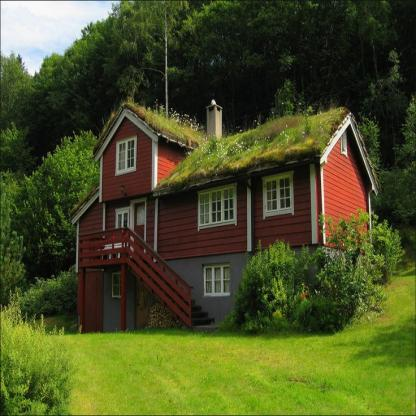Building Outline: (70, 100, 381, 334)
Dont: (222, 208, 406, 332)
Door: (129, 198, 147, 258), (135, 269, 148, 332)
Facade: (77, 160, 320, 334)
Floor: (76, 160, 319, 264)
Floor Slab: (76, 238, 319, 268), (99, 188, 154, 202)
Ground Floor: (77, 244, 320, 334)
Roof: (92, 103, 381, 197)
Top Floor: (99, 110, 154, 198)
Window: (198, 183, 237, 230), (263, 171, 294, 217), (202, 262, 231, 299), (115, 135, 137, 177), (115, 207, 131, 238), (112, 271, 123, 300)
